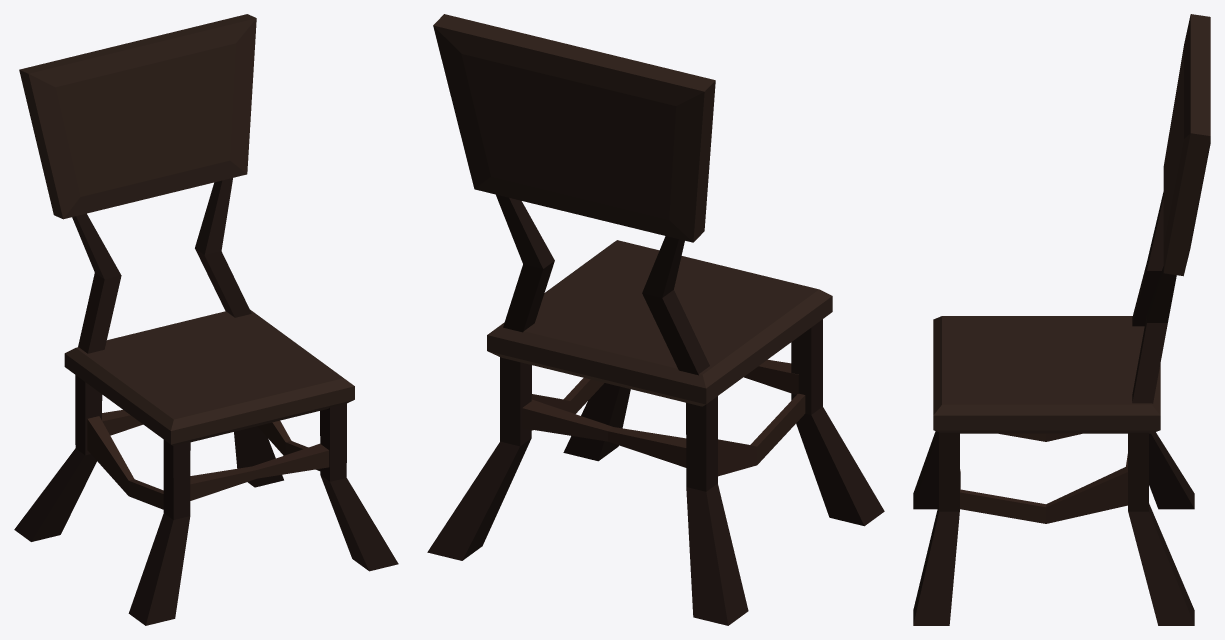
File: Cadeira.fbx
3 renders of one model, left to right at view 1: azimuth 30°, elevation 25°; view 2: azimuth 150°, elevation 25°; view 3: azimuth 270°, elevation 25°, orthographic. The views are drawn at different scales.
Parts seen in each view (by area): view 1: Cube.004; view 2: Cube.004; view 3: Cube.004.
Part boxes in pixels (x1=…): Cube.004: x1=14, y1=14, x2=398, y2=625; Cube.004: x1=427, y1=14, x2=884, y2=625; Cube.004: x1=913, y1=14, x2=1210, y2=625.
Bounding box in the file's own units: 59.18 × 101 × 56.29.
